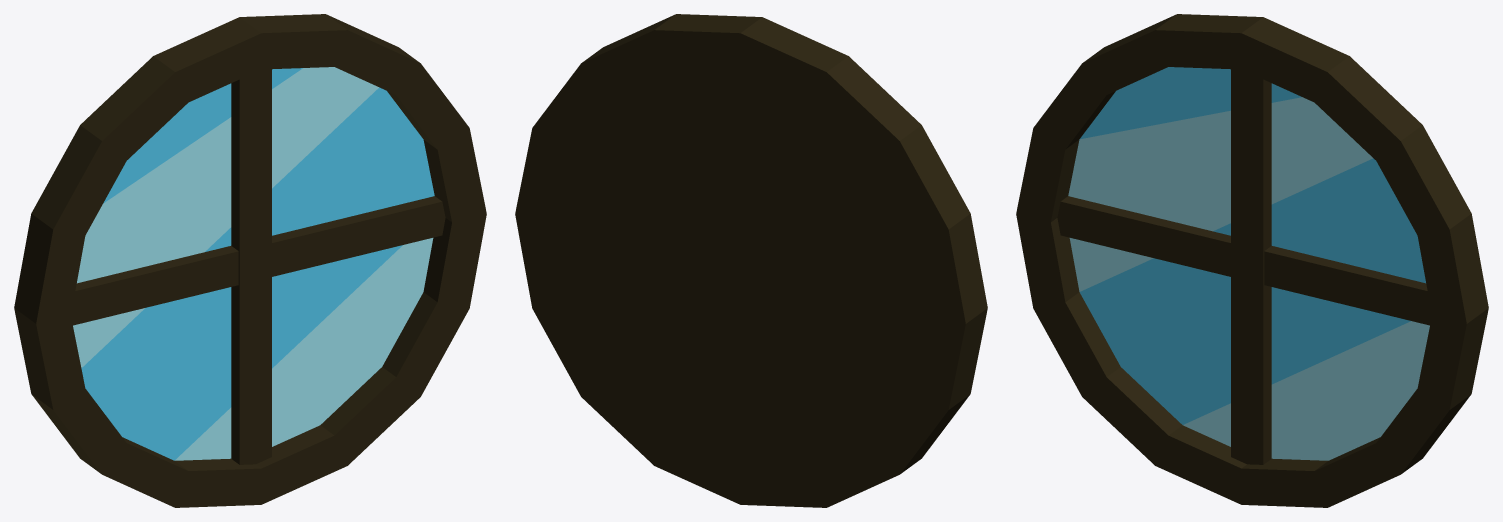
The model's file is Prop_BuildingWindow_10.fbx.
The picture shows the model from 3 angles, left to right: view 1: azimuth 30°, elevation 25°; view 2: azimuth 150°, elevation 25°; view 3: azimuth 330°, elevation 25°; orthographic projection.
Parts seen in each view (by area): view 1: Prop_BuildingWindow_10; view 2: Prop_BuildingWindow_10; view 3: Prop_BuildingWindow_10.
Boxes of the visible parts, left/top/right/bottom form: Prop_BuildingWindow_10: left=14, top=14, right=486, bottom=507; Prop_BuildingWindow_10: left=515, top=14, right=987, bottom=507; Prop_BuildingWindow_10: left=1016, top=14, right=1488, bottom=507.
Bounding box in the file's own units: 116 × 116 × 9.83.
